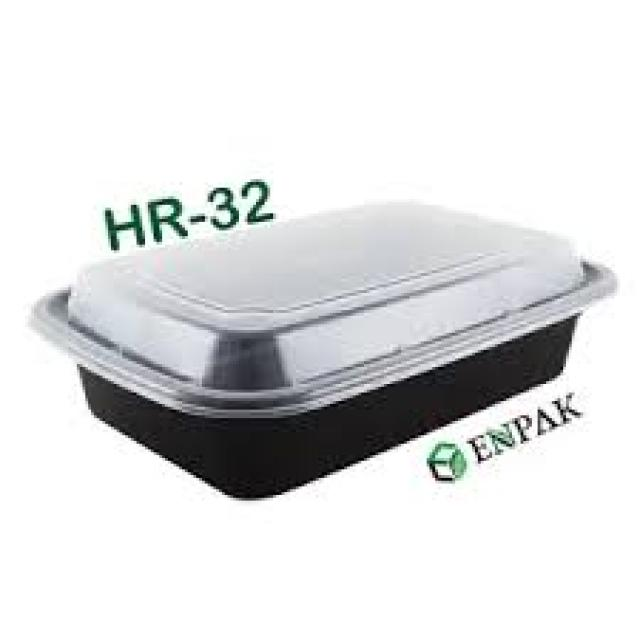disposable: (39, 187, 622, 507)
